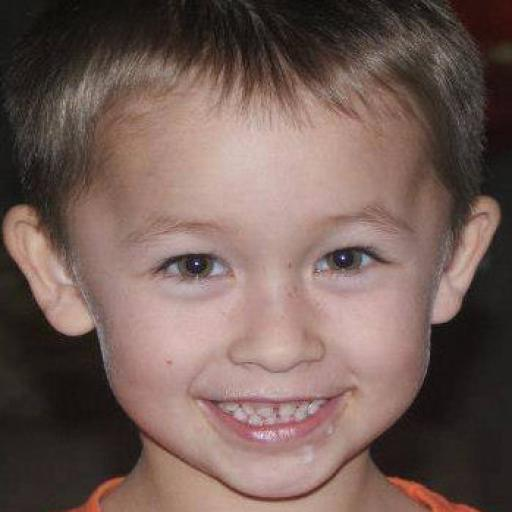Autism: (48, 52, 512, 470)
